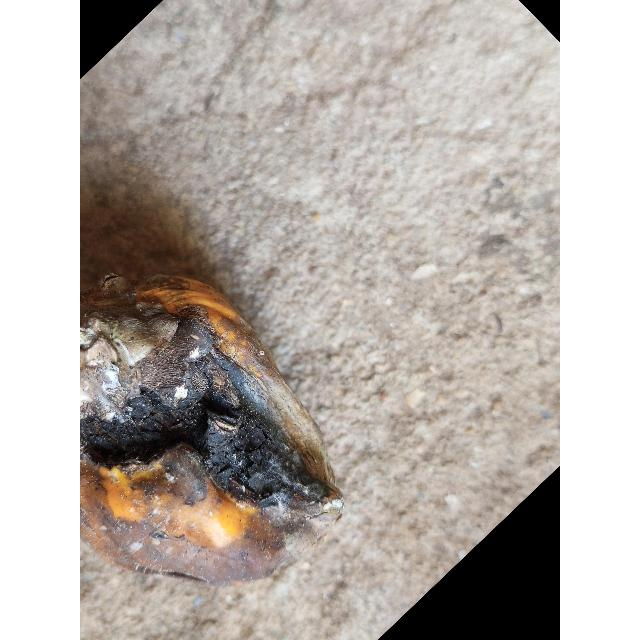damaged: (80, 280, 344, 587)
